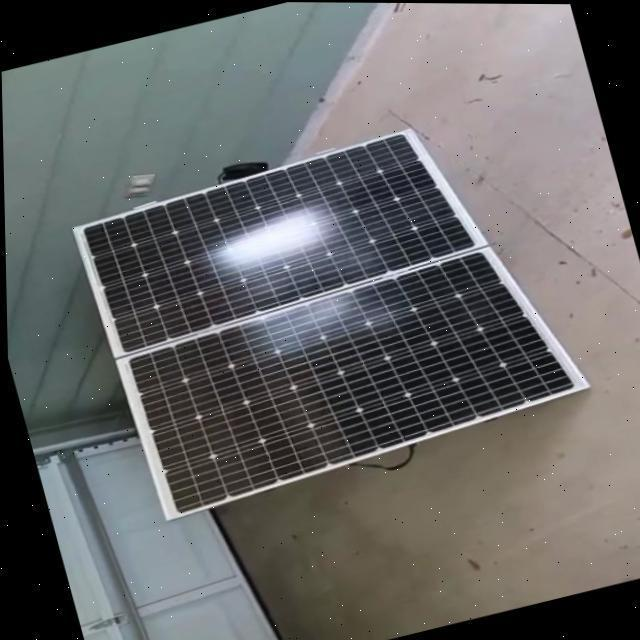Normal Solar Panel: (116, 232, 585, 518), (75, 117, 488, 354)
